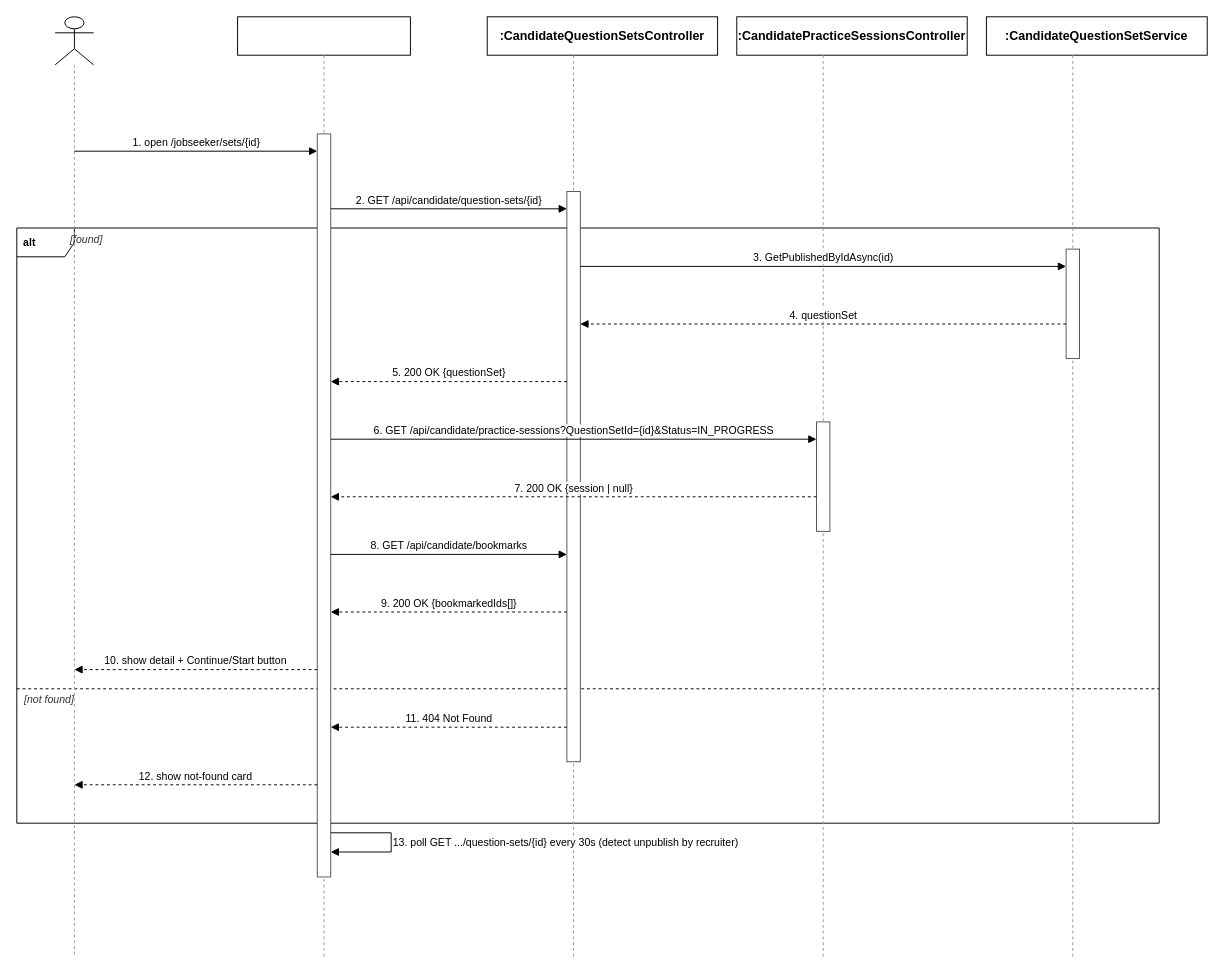
The diagram is 1224 pixels wide and 975 high, and some of its shapes have lost their labels. Here are the shapes that lost their labels. From the top down, the centre of each, then its label:
(74,40): Job Seeker
(323,35): :SetDetail
